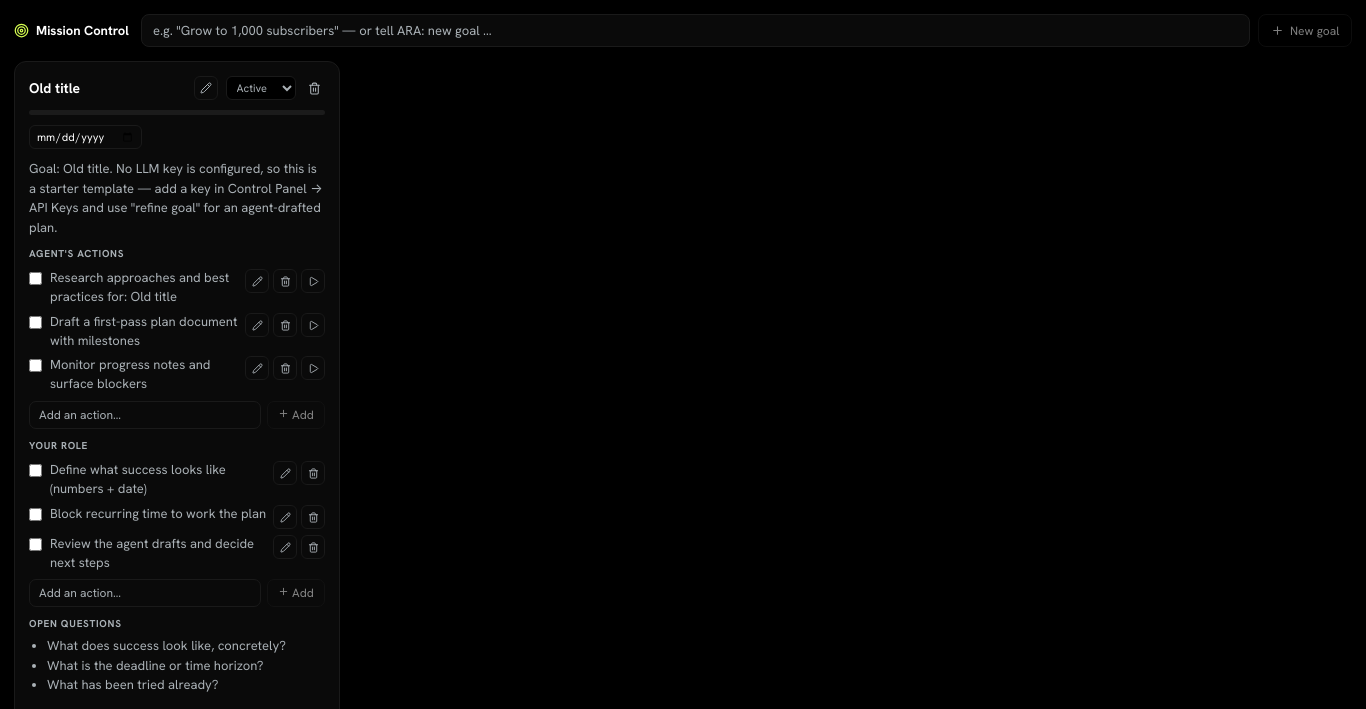
Test case: rename › Escape cancels without saving (and a later blur does not save either)
The image size is (1366, 709).
Click the button named "Rename goal Old title" at (206, 88), box [194,76,218,100]
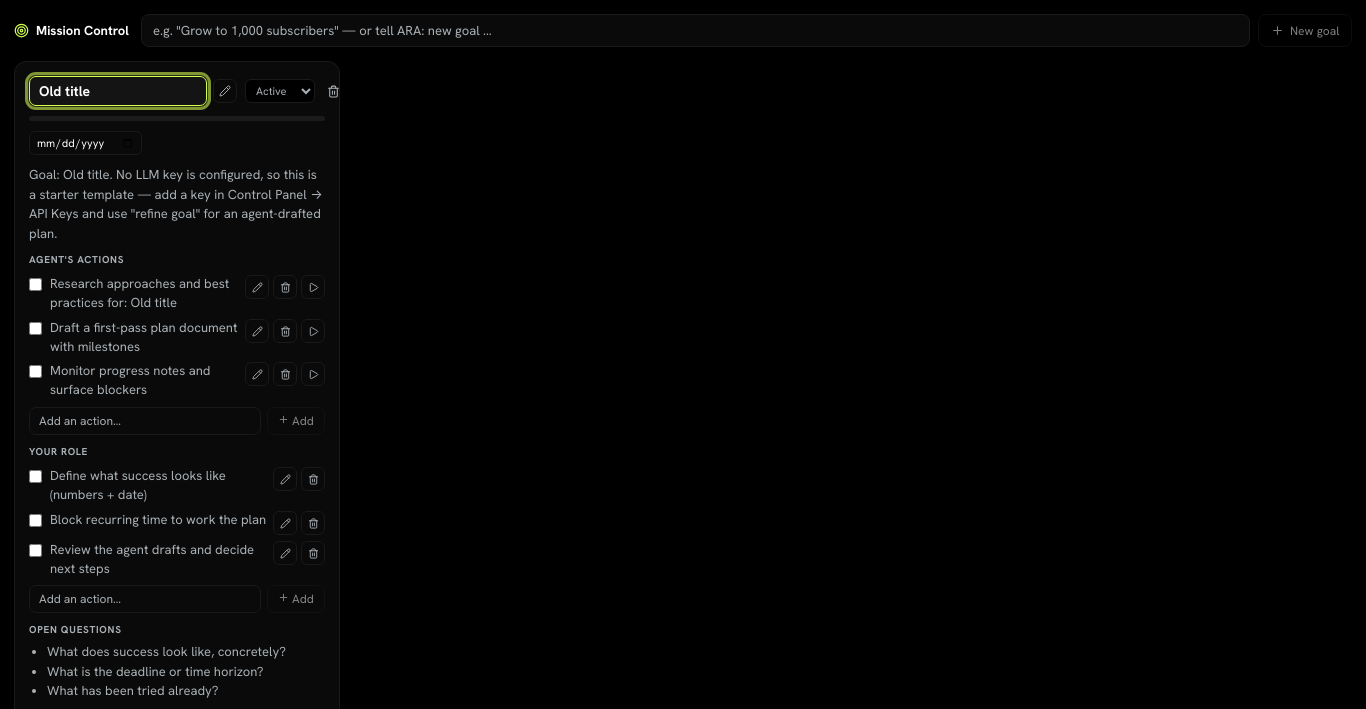
Replace the text in the field named "Goal title" with "Should not save" at (118, 91), box [29,76,207,106]
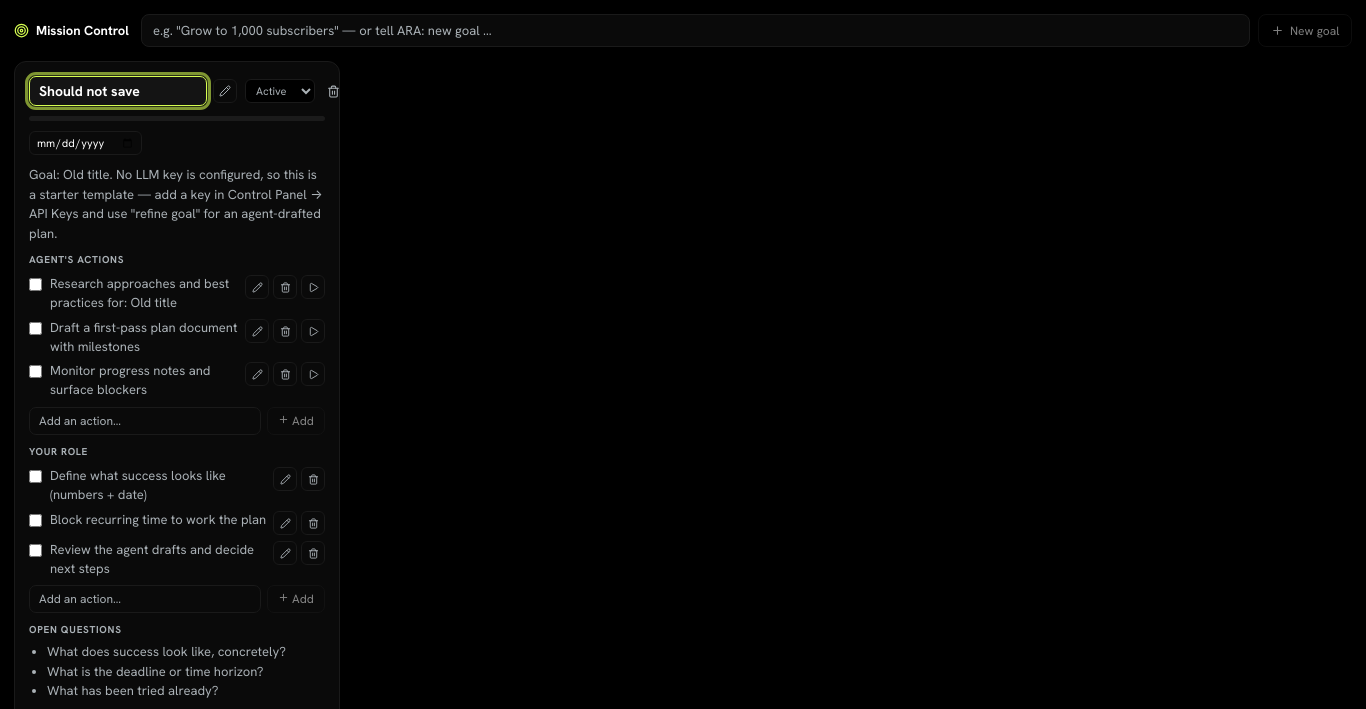
Press Escape in the field named "Goal title", box [29,76,207,106]
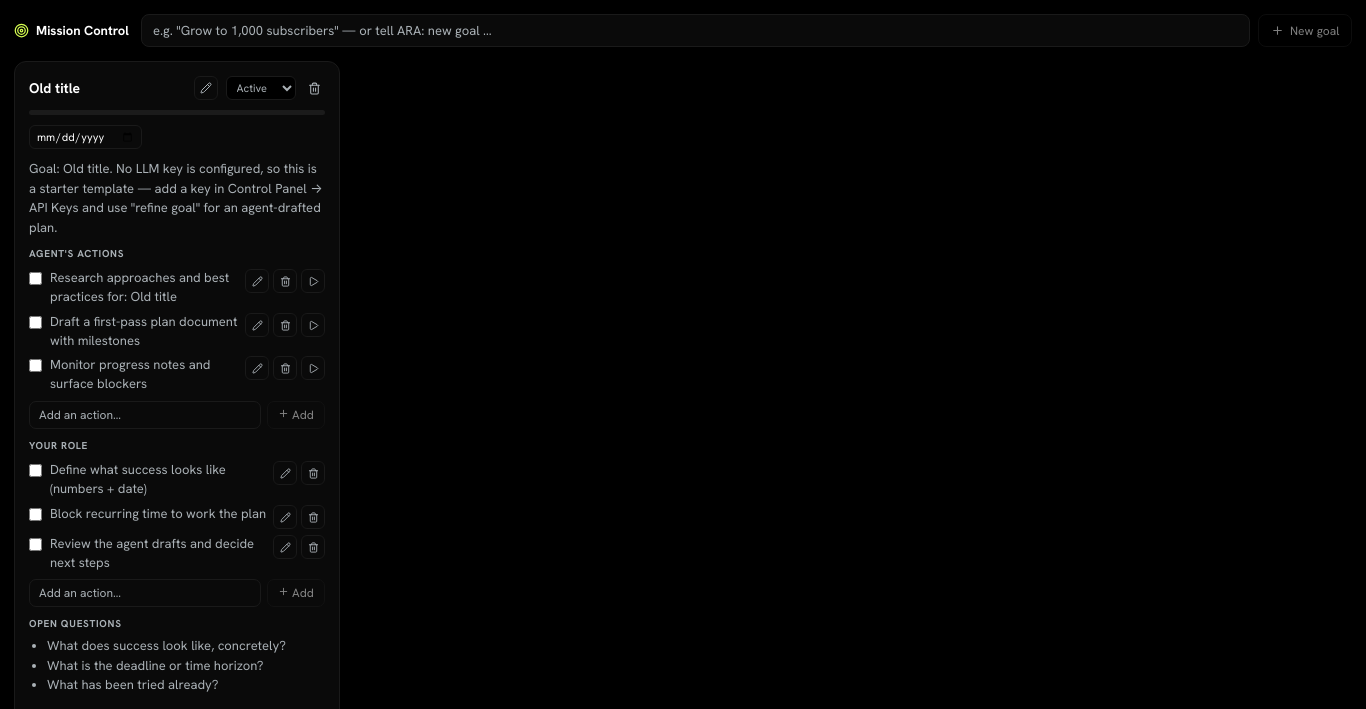
Check: the heading "Old title" is shown, box [29,79,80,97]
